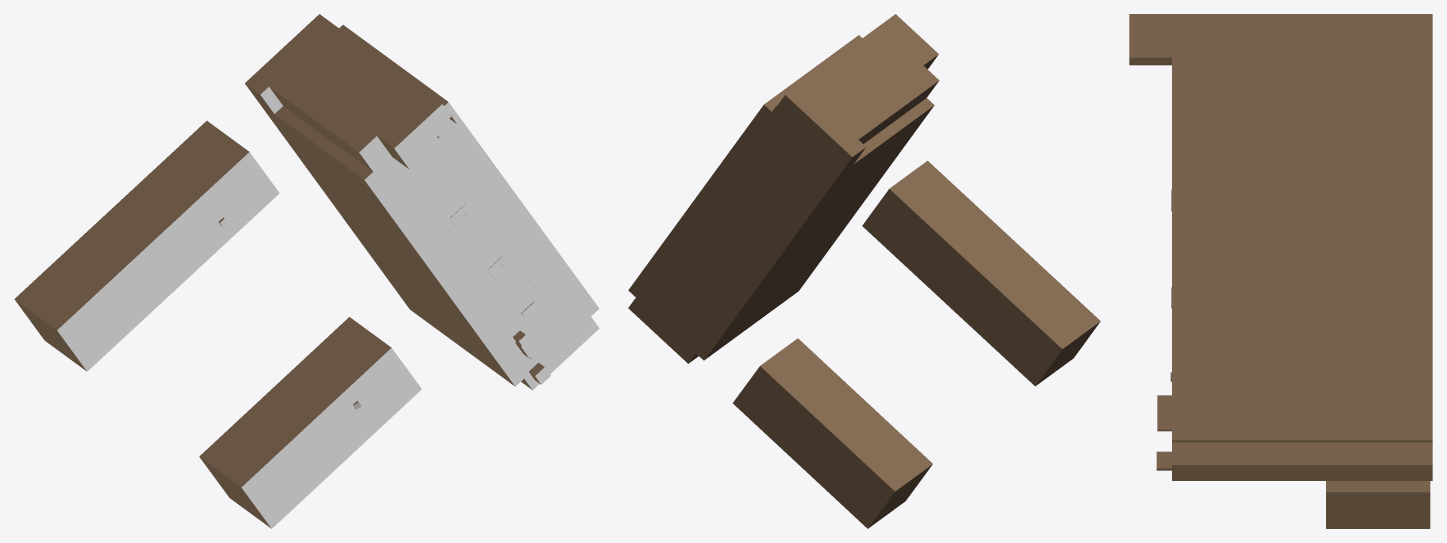
File: Groupe9137208.obj
The picture shows the model from 3 angles, left to right: view 1: azimuth 30°, elevation 25°; view 2: azimuth 150°, elevation 25°; view 3: azimuth 270°, elevation 25°; orthographic projection. The views are drawn at different scales.
Parts seen in each view (by area): view 1: City_Groupe9137208; view 2: City_Groupe9137208; view 3: City_Groupe9137208.
Part boxes in pixels (x1=…): City_Groupe9137208: x1=14, y1=14, x2=599, y2=528; City_Groupe9137208: x1=628, y1=14, x2=1100, y2=528; City_Groupe9137208: x1=1129, y1=14, x2=1432, y2=528.
Bounding box in the file's own units: 8475 × 7759 × 3748.
